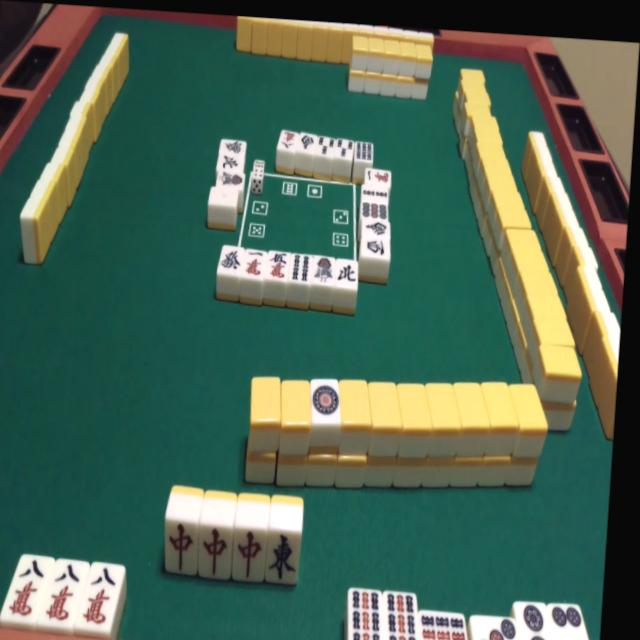east: (268, 532, 302, 584)
fa: (218, 244, 241, 273)
m1: (244, 250, 267, 280)
m5: (266, 252, 288, 282)
m8: (81, 565, 122, 631), (8, 555, 48, 621), (43, 560, 81, 626)
north: (336, 260, 358, 287)
s1: (312, 255, 336, 284)
s4: (291, 256, 313, 285)
s9: (346, 589, 387, 640), (384, 591, 423, 640)
t1: (310, 379, 342, 423)
t2: (515, 601, 558, 640)
t3: (472, 614, 520, 640)
t4: (545, 601, 597, 640)
t9: (420, 612, 471, 640)
zhong: (234, 530, 267, 581), (197, 529, 230, 580), (165, 524, 198, 575)
